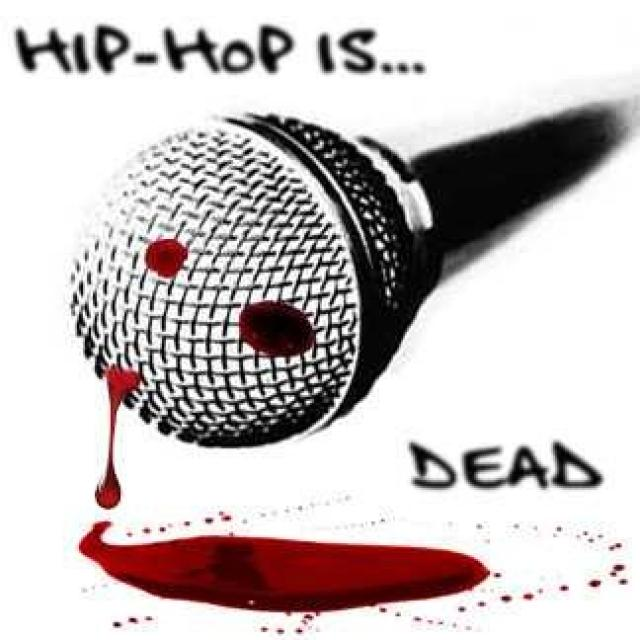microphone: (78, 68, 628, 454)
